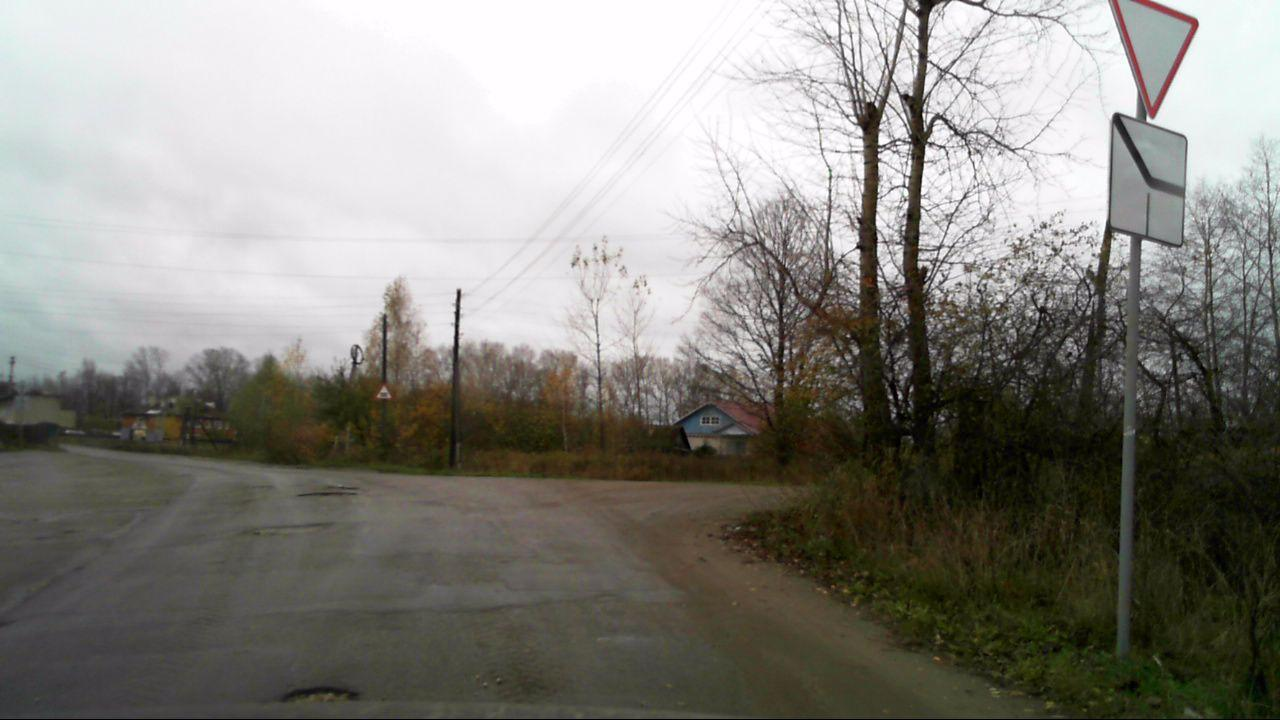pothole: (279, 687, 363, 703), (246, 523, 335, 535), (300, 491, 359, 497), (327, 484, 359, 491)
road_sign: (1108, 0, 1199, 120), (1109, 112, 1188, 247), (372, 380, 396, 401)
